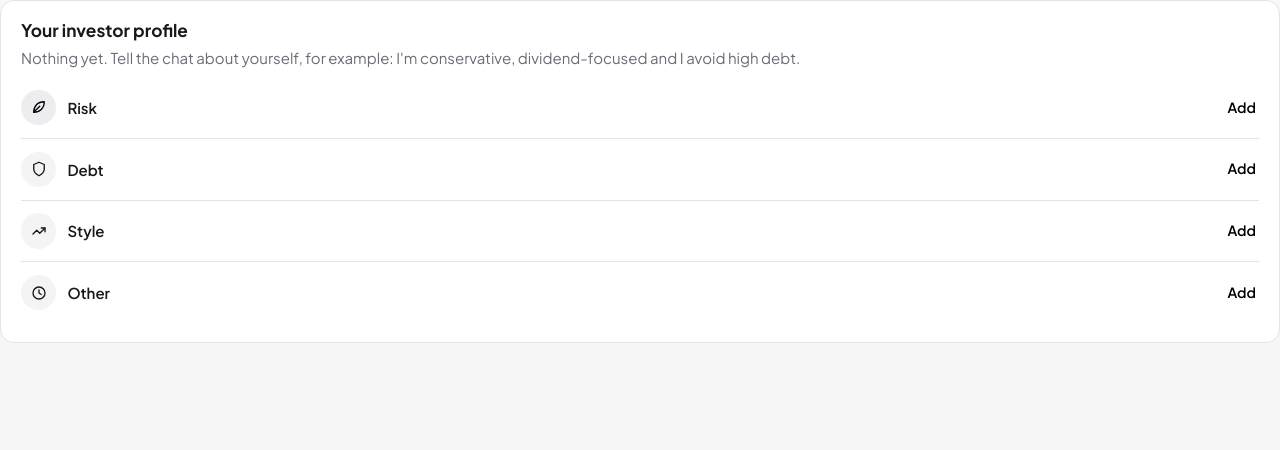
Test: the memory panel › adds a field not yet remembered with a single choice
Click the button with aria-label "Add Risk" at (1242, 108), box [1224,95,1259,120]
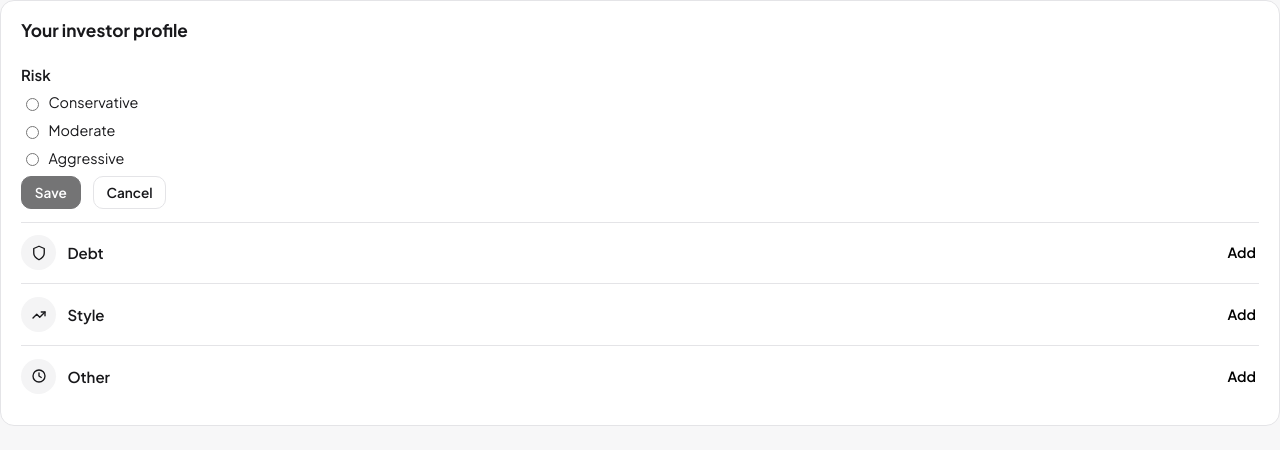
expect the button with aria-label "Save Risk" is disabled: met, box [21,176,81,209]
Click the radio button labelled "Moderate" at (32, 132), box [26,126,39,139]
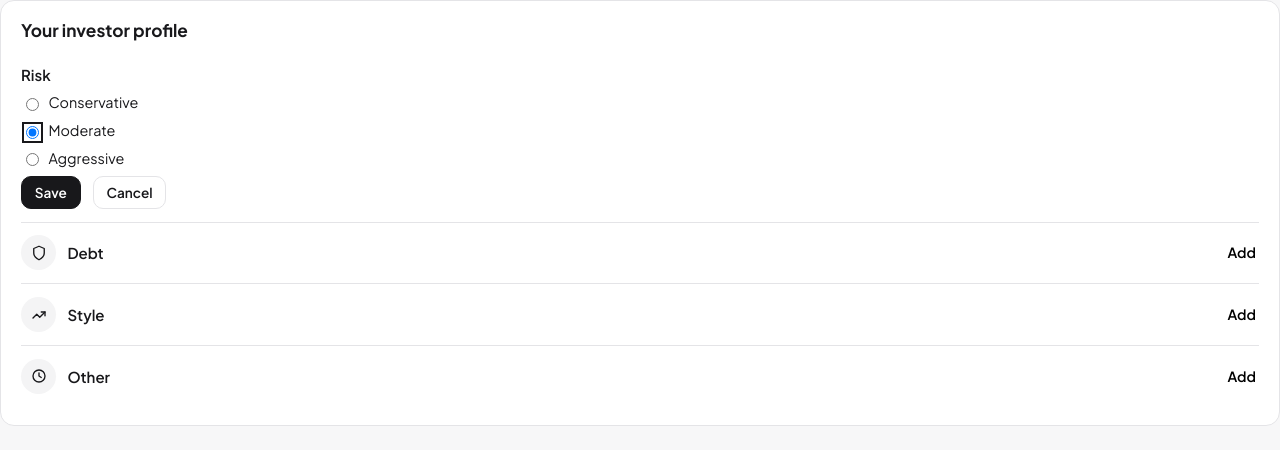
expect the button with aria-label "Save Risk" is enabled: met
Click the button with aria-label "Save Risk" at (51, 192), box [21,176,81,209]
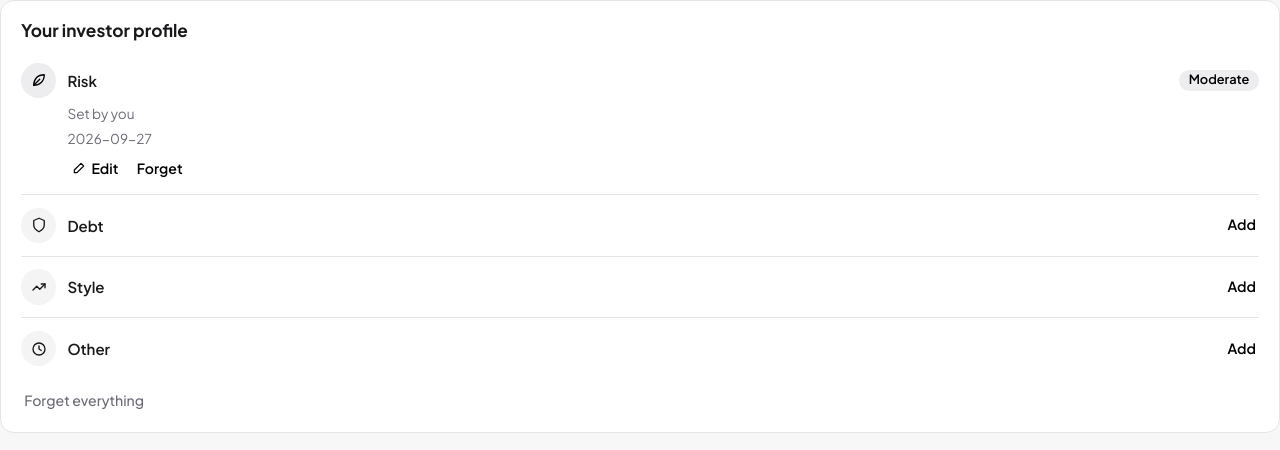
expect the text "Moderate" is shown: met, box [1179,70,1259,91]
expect the button with aria-label "Edit Risk" is shown: met, box [67,156,122,181]
